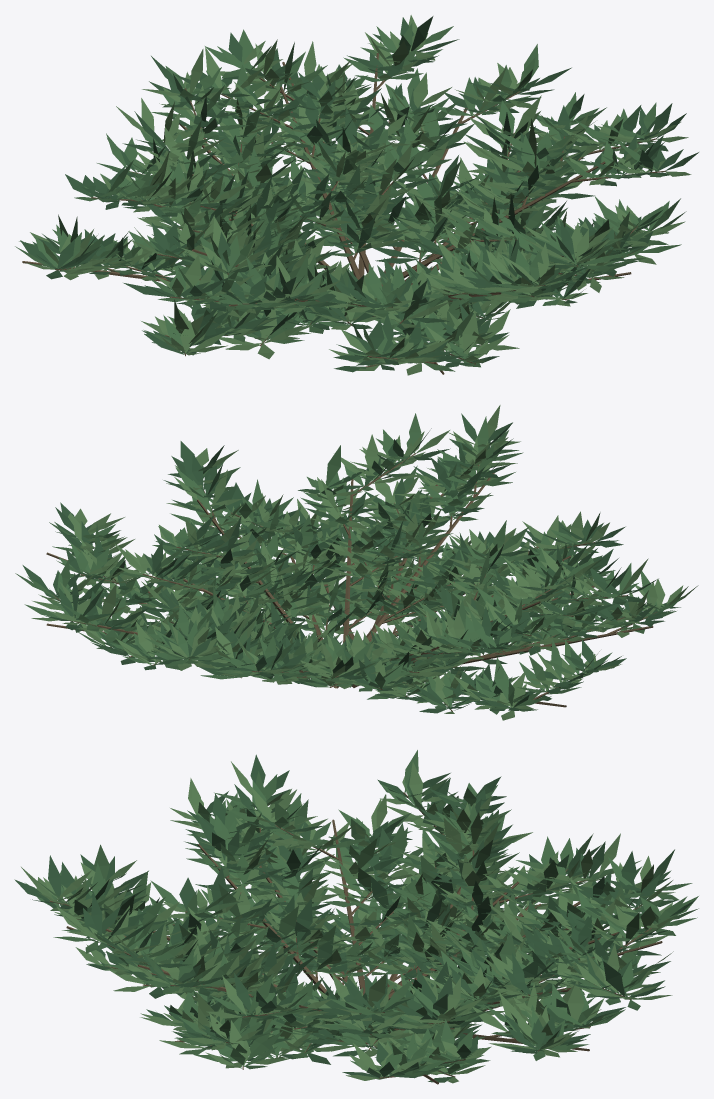
The model's file is bush_24.glb.
The picture shows the model from 3 angles, top to bottom: view 1: azimuth 30°, elevation 25°; view 2: azimuth 150°, elevation 25°; view 3: azimuth 270°, elevation 25°; orthographic projection. The views are drawn at different scales.
Visible parts, largest first — view 1: bush_24; view 2: bush_24; view 3: bush_24.
Boxes of the visible parts, x1,y1,x2,y2 form: bush_24: (15,15,698,375); bush_24: (15,405,698,720); bush_24: (14,750,698,1084).
Bounding box in the file's own units: 2.45 × 0.6427 × 2.28.
